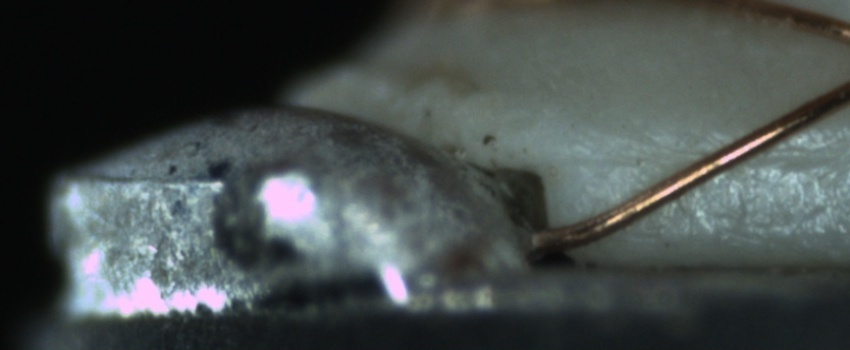DL: (570, 124, 848, 188)
